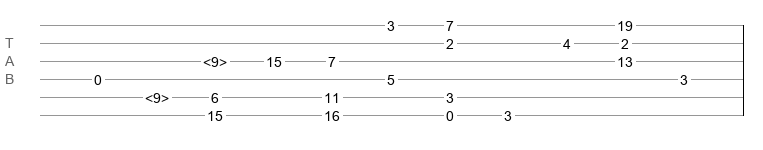0: (94, 72, 102, 82), (446, 108, 454, 118)
11: (324, 90, 340, 100)
13: (617, 54, 633, 64)
15: (207, 108, 223, 118), (266, 54, 282, 64)
16: (324, 108, 340, 118)
19: (617, 18, 633, 28)
2: (446, 36, 454, 46), (621, 36, 629, 46)
3: (387, 18, 395, 28), (446, 90, 454, 100), (504, 108, 512, 118), (680, 72, 688, 82)
4: (563, 36, 571, 46)
5: (387, 72, 395, 82)
6: (211, 90, 219, 100)
7: (328, 54, 336, 64), (446, 18, 454, 28)
harmonic: (145, 90, 169, 100), (203, 54, 227, 64)
